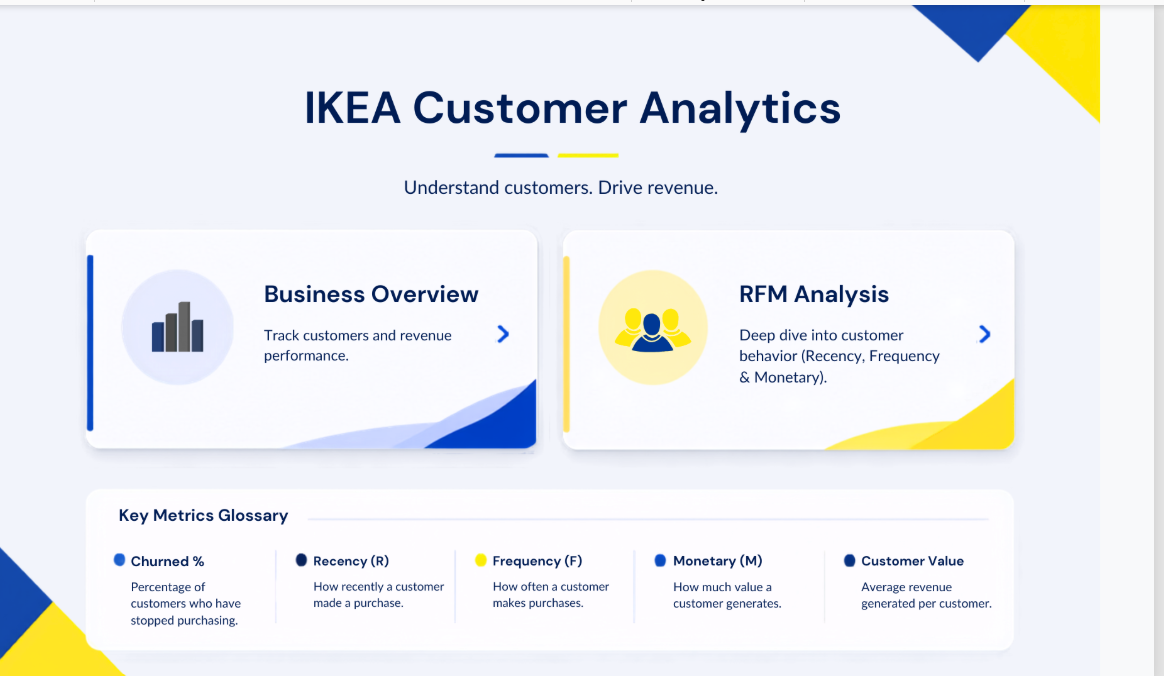

The page's visual inventory and layout, read from the dashboard file:
{"tool":"powerbi","page":{"name":"Home Page","canvas":[1920,1080],"ordinal":0},"visuals":[{"type":"textbox","box":[128.8,19.1,131.2,52.5],"z":0}]}

Visuals, with their boxes on the page's 1920x1080 design canvas (x1, y1, x2, y2). These are canvas units, not pixel positions in the 1164x676 screenshot, which may show the page scaled, cropped or inside an application window:
textbox: [129, 19, 260, 72]
